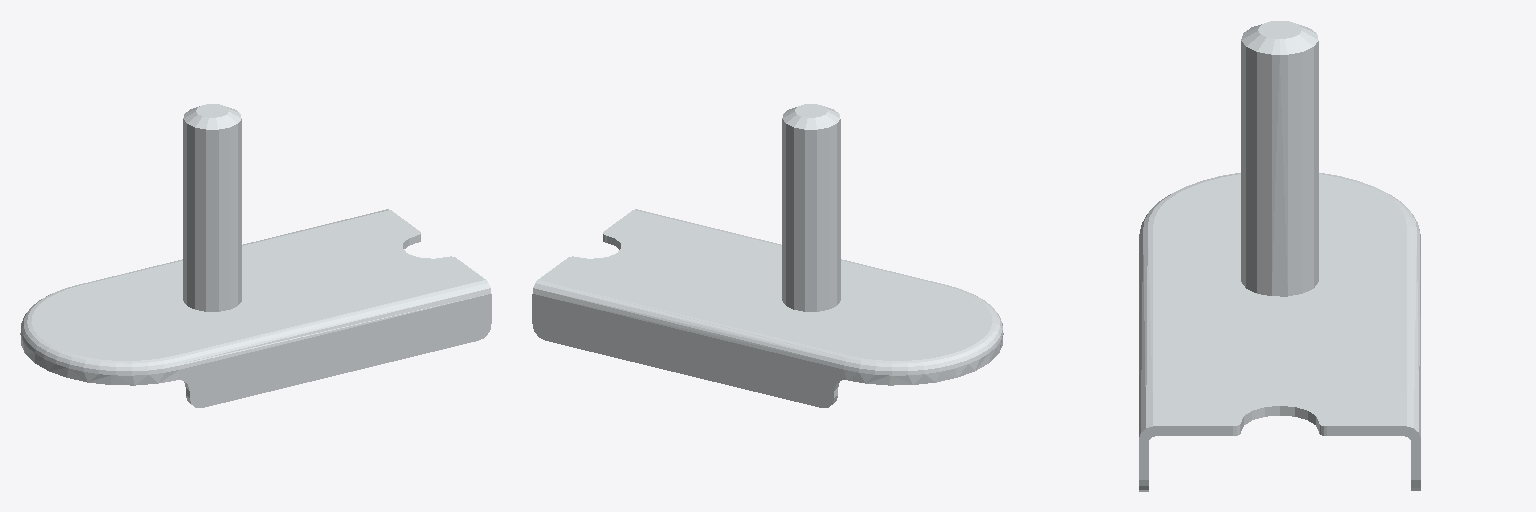
The robot description file, URDF, robot "omron1.SLDPRT":
<?xml version="1.0" encoding="utf-8"?>
<!-- This URDF was automatically created by SolidWorks to URDF Exporter! Originally created by [author] ([email redacted]) 
     Commit Version: 1.5.1-0-g916b5db  Build Version: 1.5.7152.31018
     For more information, please see http://wiki.ros.org/sw_urdf_exporter -->
<robot
  name="omron1.SLDPRT">
  <link
    name="omron2">
    <inertial>
      <origin
        xyz="0.00262894836184986 -1.65939496617675E-07 0.0078825"
        rpy="0 0 0" />
      <mass
        value="0.015009" />
      <inertia
        ixx="1.87886671417328E-06"
        ixy="1.81409769420691E-08"
        ixz="-1.6872054054892E-07"
        iyy="3.36043328582672E-06"
        iyz="-2.06043407324906E-09"
        izz="3.1201E-06" />
    </inertial>
    <visual>
      <origin
        xyz="0 0 0"
        rpy="0 0 -0.00612908092688044" />
      <geometry>
        <mesh
          filename="package://omron2/meshes/omron2.STL" />
      </geometry>
      <material
        name="">
        <color
          rgba="0.89804 0.91765 0.92941 1" />
        <texture
          filename="package://omron2/textures/" />
      </material>
    </visual>
    <collision>
      <origin
        xyz="0 0 0"
        rpy="0 0 -0.00612908092688044" />
      <geometry>
        <mesh
          filename="package://omron2/meshes/omron2.STL" />
      </geometry>
    </collision>
  </link>
</robot>

--- What the picture shows (computed from the rendered views, not written in the file) ---
The picture shows the robot from 3 angles, left to right: view 1: azimuth 30°, elevation 25°; view 2: azimuth 150°, elevation 25°; view 3: azimuth 270°, elevation 25°; orthographic projection.
Robot: omron1.SLDPRT — 1 links, 0 joints (none); root link omron2; default pose: every joint at zero.
Visible links, largest first — view 1: omron2; view 2: omron2; view 3: omron2.
Boxes of the visible links, x1,y1,x2,y2 form: omron2: [20, 104, 491, 407]; omron2: [532, 104, 1003, 407]; omron2: [1139, 21, 1420, 491].
Size in the robot's own frame: 0.0635 by 0.029 by 0.0365 metres.
1 mesh visuals loaded from 1 distinct referenced files (1 binary STL).